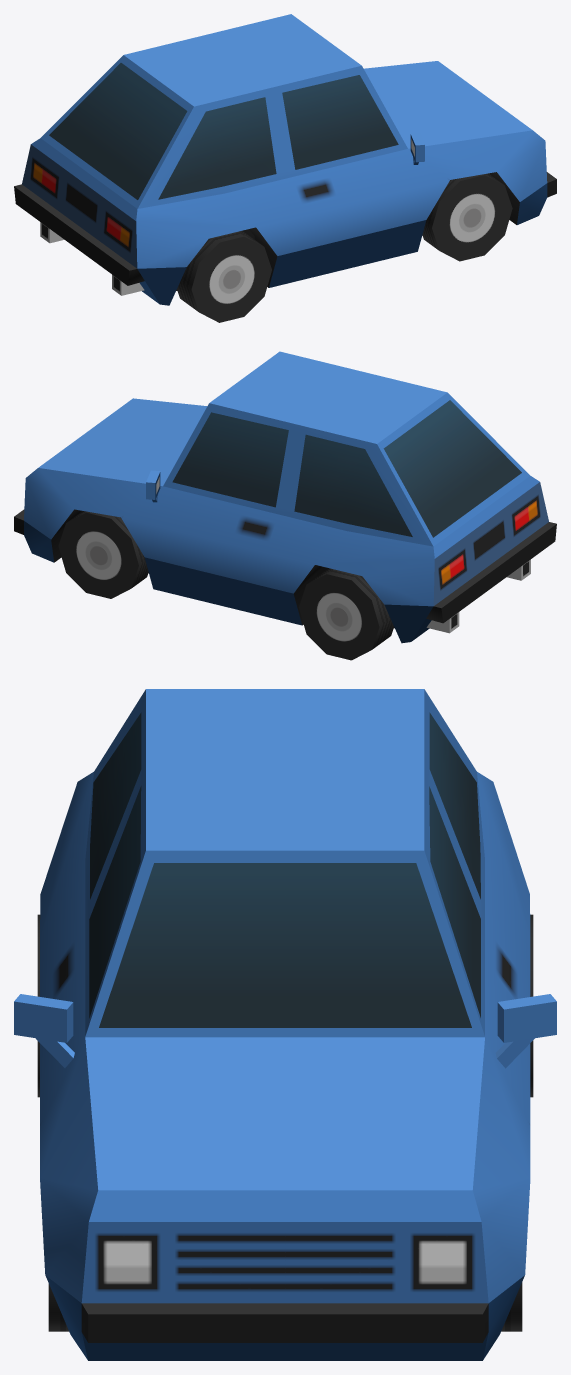
File: Car_258.glb
The picture shows the model from 3 angles, top to bottom: view 1: azimuth 30°, elevation 25°; view 2: azimuth 150°, elevation 25°; view 3: azimuth 270°, elevation 25°; orthographic projection. The views are drawn at different scales.
Parts seen in each view (by area): view 1: Car_258, wheel_3_Car_258_Wheel_2R, wheel_1_Car_258_Wheel_1R; view 2: Car_258, wheel_2_Car_258_Wheel_2L, wheel_0_Car_258_Wheel_1L; view 3: Car_258.
Part boxes in pixels (x1,y1,x2,y2): Car_258: [14, 14, 556, 305]; wheel_3_Car_258_Wheel_2R: [177, 231, 271, 322]; wheel_1_Car_258_Wheel_1R: [422, 173, 512, 261]; Car_258: [14, 351, 556, 643]; wheel_2_Car_258_Wheel_2L: [299, 568, 393, 660]; wheel_0_Car_258_Wheel_1L: [58, 511, 148, 598]; Car_258: [14, 689, 556, 1360].
Bounding box in the file's own units: 3.42 × 1.47 × 1.87.
Materials: 1 (1 with a texture image).
